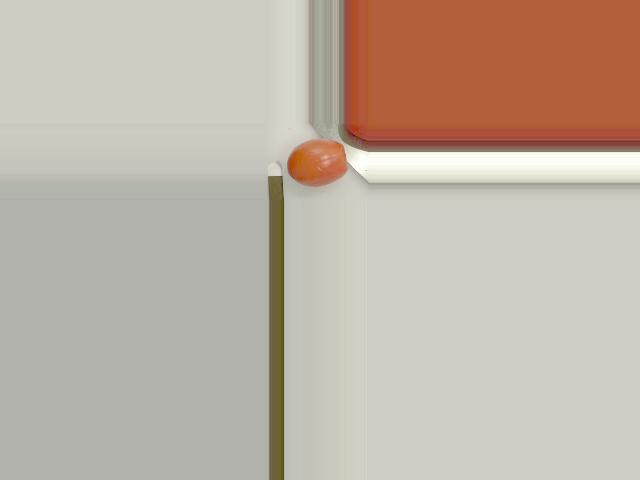tomato: (287, 138, 348, 187)
